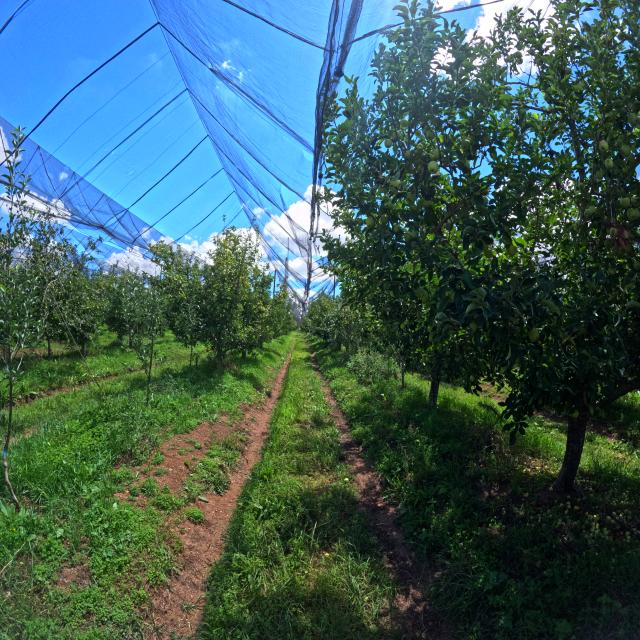-FireBlight-: (603, 217, 630, 254)
